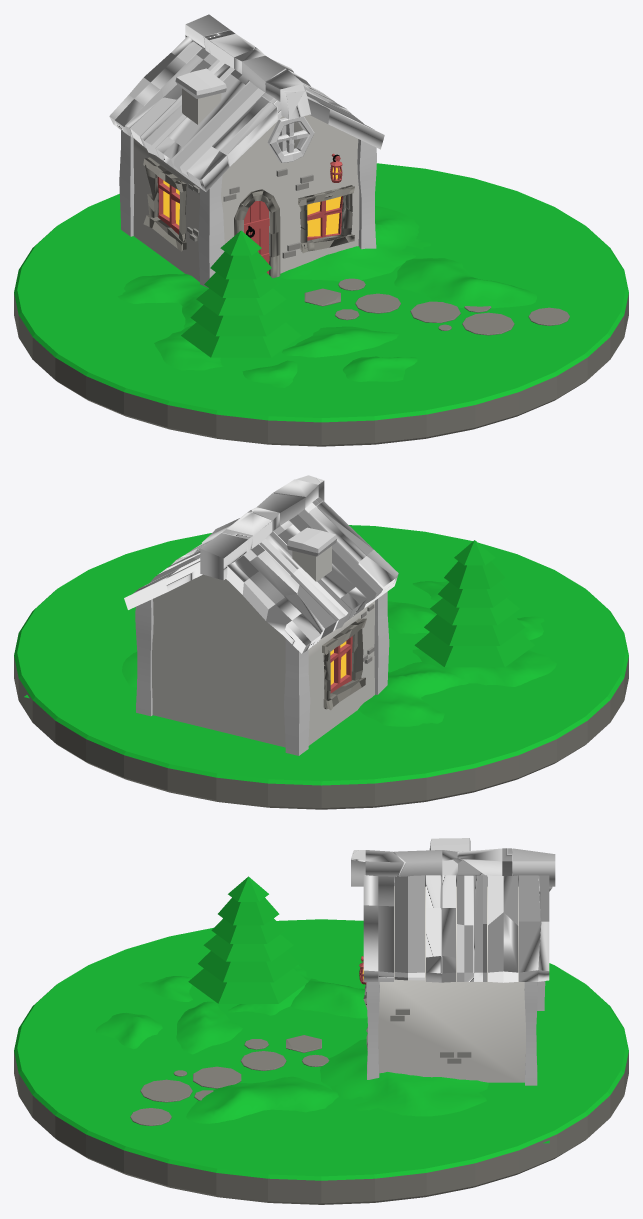
The model's file is cabin.fbx.
3 renders of one model, top to bottom at view 1: azimuth 30°, elevation 25°; view 2: azimuth 150°, elevation 25°; view 3: azimuth 270°, elevation 25°, orthographic.
Visible parts, largest first — view 1: floor, stony_roof, landscape, floor_2, building_structure, pine_tree, house_stones, stone_paths, left_window_stone_1, front_window_stone_1, door_stone, stony_window (+7 smaller); view 2: floor, building_structure, stony_roof, floor_2, pine_tree, landscape, house_stones, left_window_stone_1, chimmey_top, chimmey, left_side_frame; view 3: floor, stony_roof, landscape, floor_2, building_structure, pine_tree, stone_paths, house_stones, chimmey_top.
Boxes of the visible parts, x1,y1,x2,y2 form: floor: (14, 163, 628, 422); stony_roof: (109, 14, 384, 191); landscape: (118, 206, 536, 387); floor_2: (14, 293, 628, 446); building_structure: (133, 115, 359, 281); pine_tree: (181, 230, 301, 357); house_stones: (119, 125, 376, 288); stone_paths: (304, 278, 569, 335); left_window_stone_1: (143, 157, 186, 251); front_window_stone_1: (298, 185, 354, 253); door_stone: (234, 189, 280, 278); stony_window: (267, 116, 314, 162); floor: (14, 525, 628, 785); building_structure: (152, 574, 374, 747); stony_roof: (124, 475, 398, 653); floor_2: (14, 656, 628, 809); pine_tree: (414, 540, 534, 667); landscape: (24, 581, 556, 726); house_stones: (135, 591, 389, 755); left_window_stone_1: (322, 618, 366, 710); chimmey_top: (287, 527, 337, 556); chimmey: (292, 546, 331, 581); left_side_frame: (330, 636, 352, 693); floor: (14, 919, 628, 1180); stony_roof: (351, 848, 555, 982); landscape: (95, 964, 549, 1143); floor_2: (14, 1052, 628, 1204); building_structure: (378, 886, 525, 1082); pine_tree: (188, 876, 308, 1003); stone_paths: (130, 1035, 329, 1125); house_stones: (366, 981, 545, 1085); chimmey_top: (429, 838, 470, 851).
Bounding box in the file's own units: 190 × 74.6 × 190.
